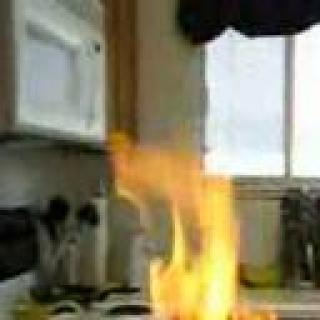fire: (106, 133, 247, 253), (137, 257, 293, 320)
